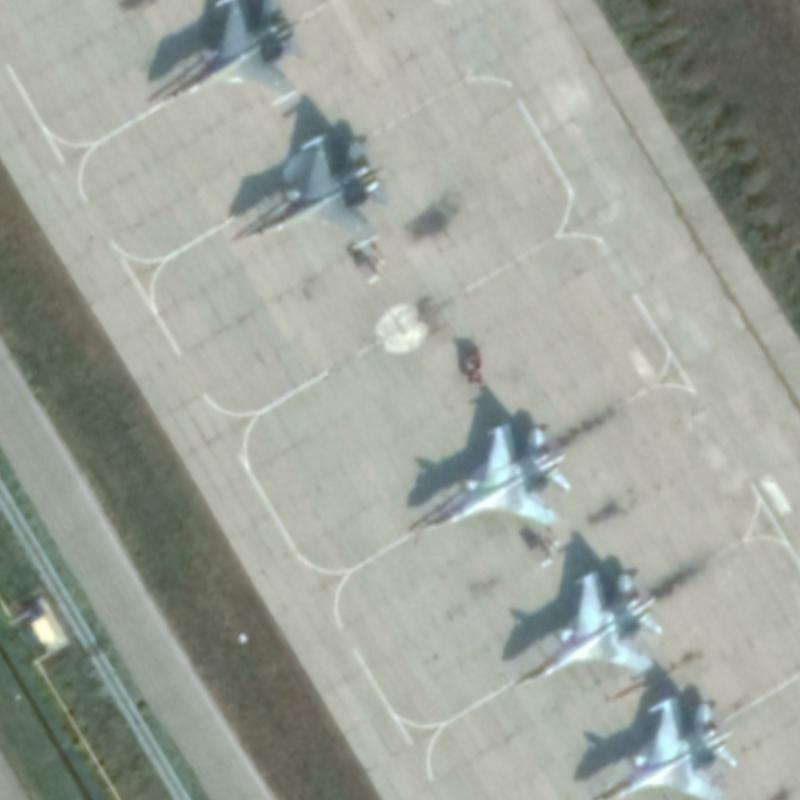A1: (243, 127, 392, 253), (418, 419, 573, 535), (514, 566, 665, 685), (155, 0, 310, 106), (593, 693, 739, 799)
